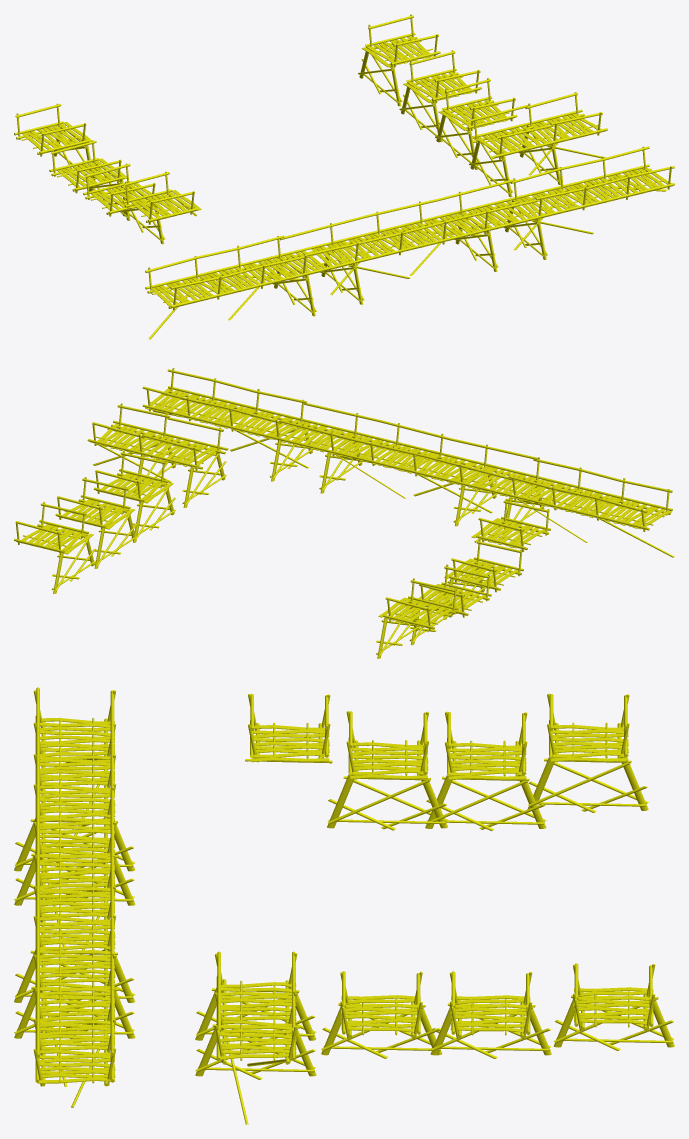
File: bridges.fbx
3 views of the same model, one above another, from view 1: azimuth 30°, elevation 25°; view 2: azimuth 150°, elevation 25°; view 3: azimuth 270°, elevation 25° (orthographic). The views are drawn at different scales.
Visible parts, largest first — view 1: pasted__pasted__polySurface9, pasted__pasted__polySurface673, pasted__pasted__polySurface763, pasted__pasted__polySurface773, pasted__pasted__polySurface762, pasted__pasted__polySurface764, pasted__pasted__polySurface774, pasted__pasted__polySurface761, pasted__Bridge; view 2: pasted__pasted__polySurface9, pasted__pasted__polySurface673, pasted__pasted__polySurface763, pasted__pasted__polySurface762, pasted__pasted__polySurface773, pasted__pasted__polySurface764, pasted__pasted__polySurface761, pasted__Bridge, pasted__pasted__polySurface774; view 3: pasted__pasted__polySurface9, pasted__pasted__polySurface673, pasted__pasted__polySurface764, pasted__pasted__polySurface761, pasted__pasted__polySurface774, pasted__pasted__polySurface763, pasted__pasted__polySurface773, pasted__pasted__polySurface762, pasted__Bridge.
Part boxes in pixels (x1,y1,x2,y2): pasted__pasted__polySurface9: (145, 146, 674, 339); pasted__pasted__polySurface673: (469, 92, 607, 197); pasted__pasted__polySurface763: (358, 14, 440, 106); pasted__pasted__polySurface773: (399, 50, 481, 142); pasted__pasted__polySurface762: (435, 78, 517, 169); pasted__pasted__polySurface764: (14, 103, 95, 179); pasted__pasted__polySurface774: (49, 140, 130, 220); pasted__pasted__polySurface761: (83, 163, 165, 244); pasted__Bridge: (122, 171, 201, 224); pasted__pasted__polySurface9: (142, 368, 674, 557); pasted__pasted__polySurface673: (87, 403, 228, 507); pasted__pasted__polySurface763: (14, 502, 95, 593); pasted__pasted__polySurface762: (93, 451, 175, 542); pasted__pasted__polySurface773: (55, 477, 137, 568); pasted__pasted__polySurface764: (376, 578, 458, 658); pasted__pasted__polySurface761: (443, 539, 523, 619); pasted__Bridge: (471, 498, 550, 551); pasted__pasted__polySurface774: (409, 564, 491, 645); pasted__pasted__polySurface9: (14, 687, 135, 1107); pasted__pasted__polySurface673: (195, 951, 316, 1124); pasted__pasted__polySurface764: (527, 693, 648, 812); pasted__pasted__polySurface761: (327, 711, 447, 830); pasted__pasted__polySurface774: (425, 711, 546, 831); pasted__pasted__polySurface763: (553, 963, 674, 1050); pasted__pasted__polySurface773: (430, 971, 551, 1058); pasted__pasted__polySurface762: (321, 971, 442, 1058); pasted__Bridge: (245, 694, 332, 763).
Bounding box in the file's own units: 32.52 × 4.83 × 24.06.
